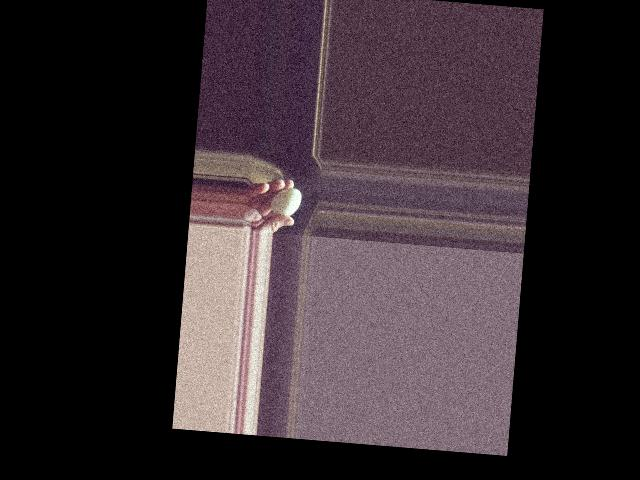egg: (270, 186, 302, 217)
